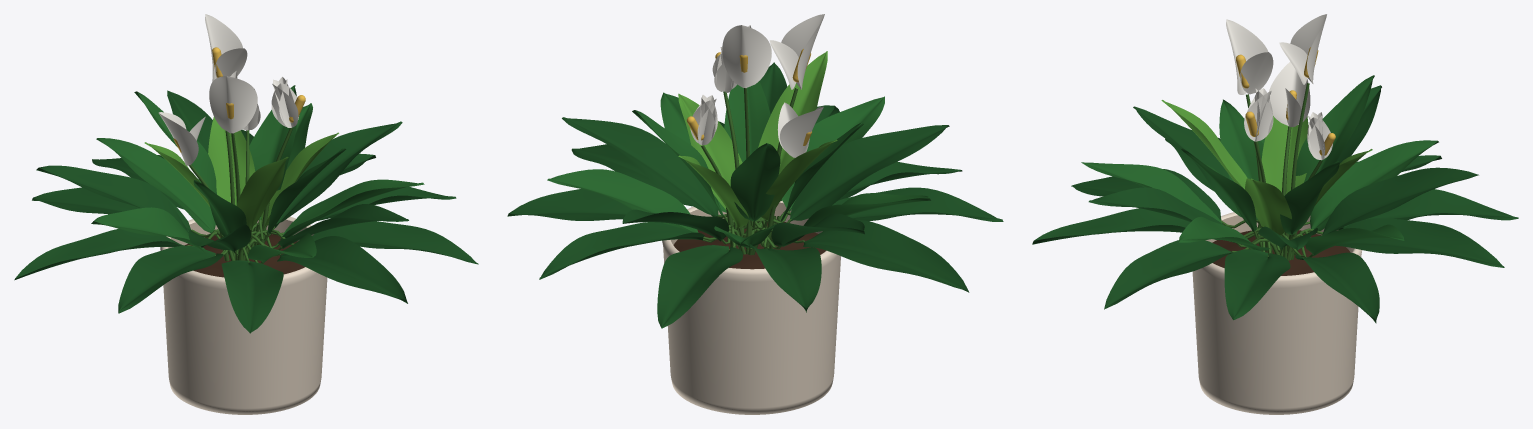
The model's file is flower_pot_small_realistic.glb.
The picture shows the model from 3 angles, left to right: view 1: azimuth 30°, elevation 25°; view 2: azimuth 150°, elevation 25°; view 3: azimuth 270°, elevation 25°; orthographic projection. The views are drawn at different scales.
Parts seen in each view (by area): view 1: Small_Flowering_Stoneware_Planter; view 2: Small_Flowering_Stoneware_Planter; view 3: Small_Flowering_Stoneware_Planter.
Part boxes in pixels (x1,y1,x2,y2): Small_Flowering_Stoneware_Planter: [14, 14, 478, 414]; Small_Flowering_Stoneware_Planter: [507, 14, 1003, 414]; Small_Flowering_Stoneware_Planter: [1032, 14, 1518, 414].
Bounding box in the file's own units: 0.36 × 0.2997 × 0.3661.
